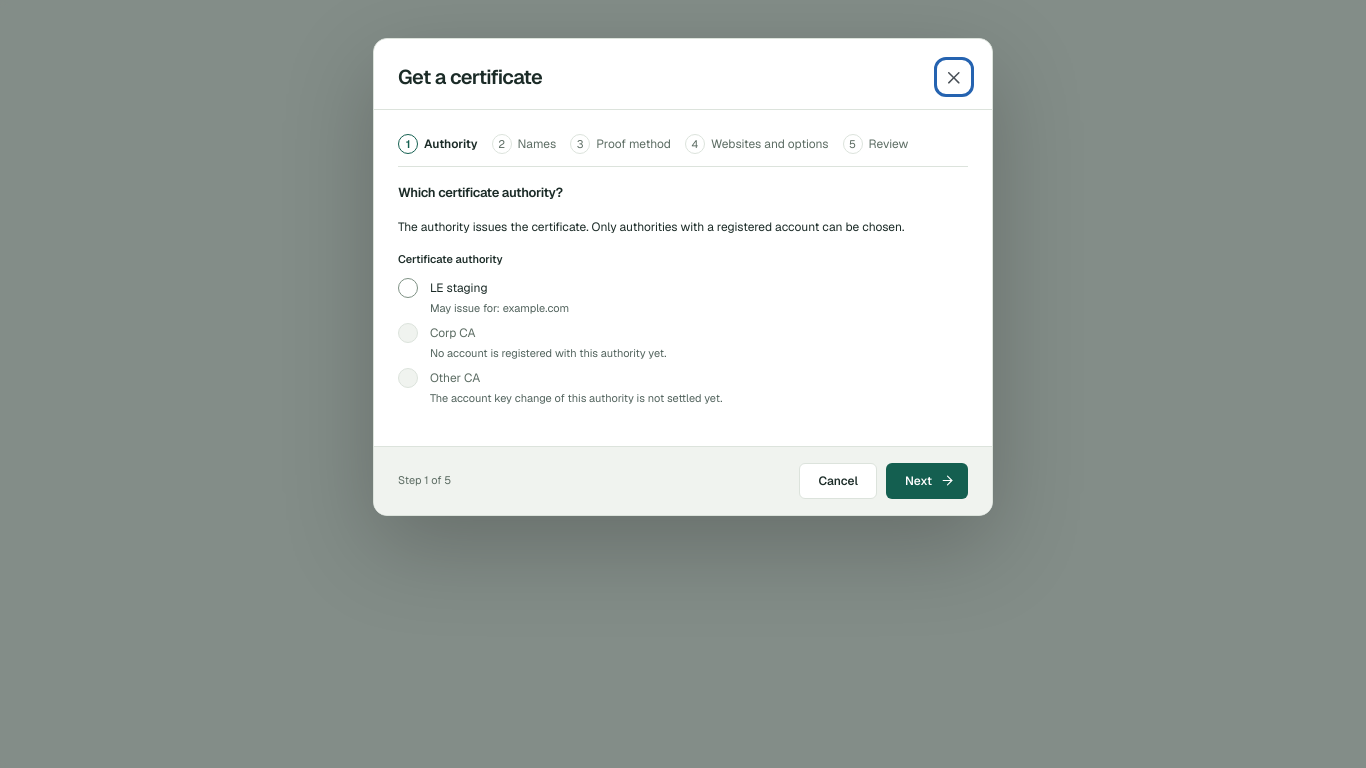
Scenario: Get a certificate › asks for an authority before going on
The width and height of the screenshot is (1366, 768).
Expected: the dialog "Get a certificate" is shown, [373,38,993,516]
Expected: the radio button labelled "LE staging" is shown, [398,278,418,298]
Click the button "Next". click: (927, 480)
box: [886,462,968,498]
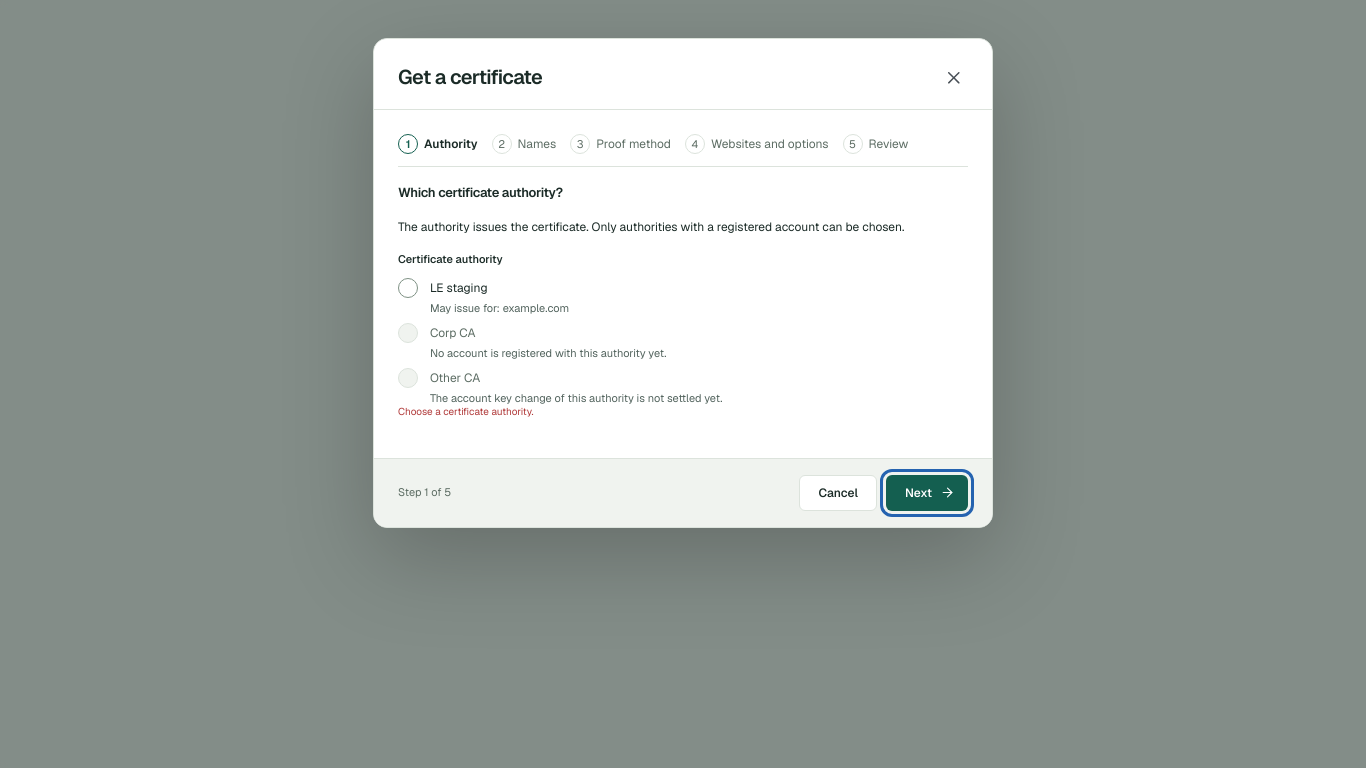
Expected: the heading "Which certificate authority?" is shown, [398,184,563,201]
Result: the text "Choose a certificate authority." is shown at [398,404,534,418]
